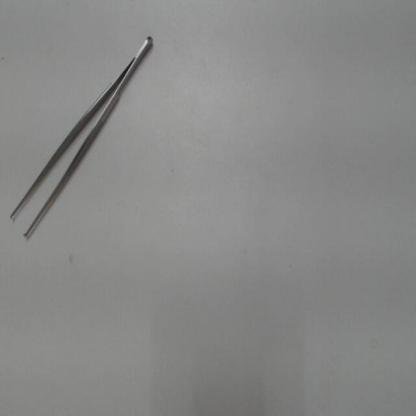Gillies Toothed Dissector: (4, 28, 159, 242)
